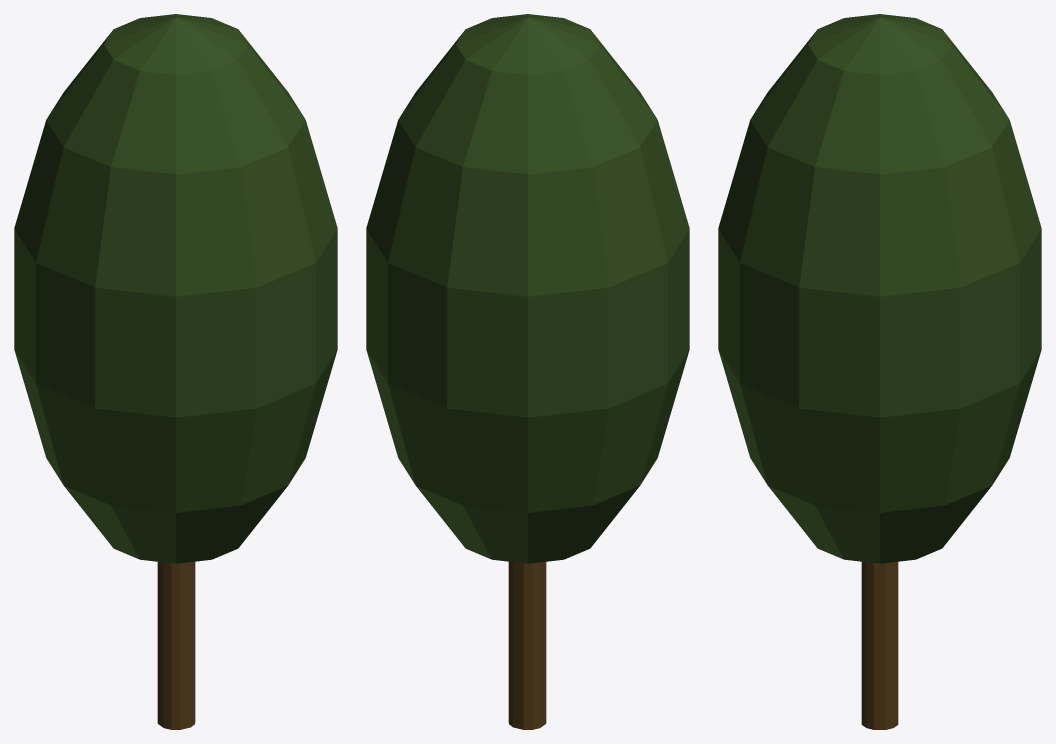
Rendered from tree.fbx.
3 renders of one model, left to right at view 1: azimuth 30°, elevation 25°; view 2: azimuth 150°, elevation 25°; view 3: azimuth 270°, elevation 25°, orthographic.
Parts seen in each view (by area): view 1: Tree.001; view 2: Tree.001; view 3: Tree.001.
Boxes of the visible parts, <box> form: Tree.001: <box>14,14,337,729</box>; Tree.001: <box>366,14,689,729</box>; Tree.001: <box>718,14,1041,729</box>.
Size of the model in its own units: 1.95 by 4.69 by 1.95.
